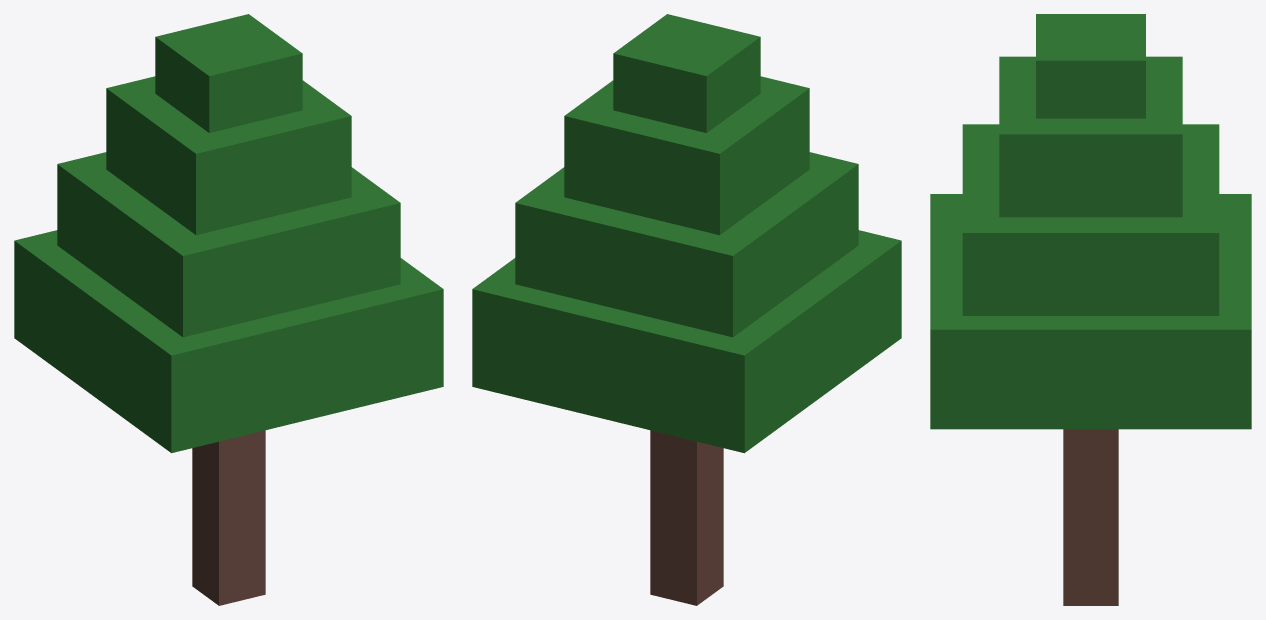
The model's file is tree_short.obj.
The picture shows the model from 3 angles, left to right: view 1: azimuth 30°, elevation 25°; view 2: azimuth 150°, elevation 25°; view 3: azimuth 270°, elevation 25°; orthographic projection. The views are drawn at different scales.
Bounding box in the file's own units: 3.5 × 6.7 × 3.5.
